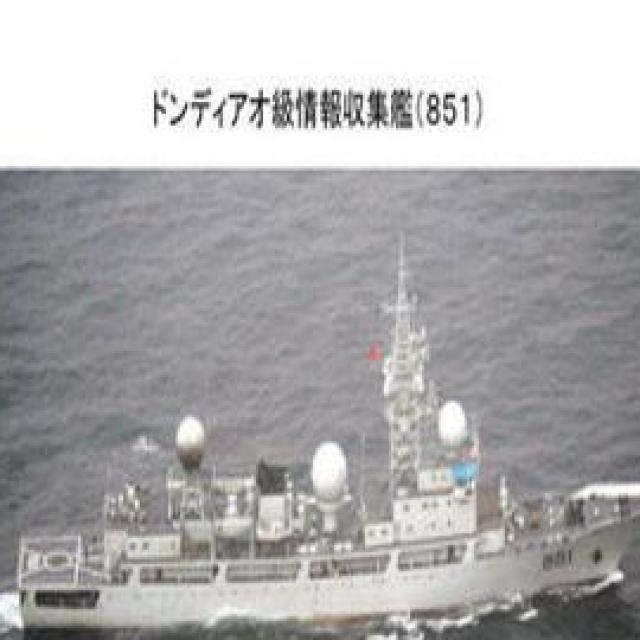navalvessels: (9, 287, 640, 640)
